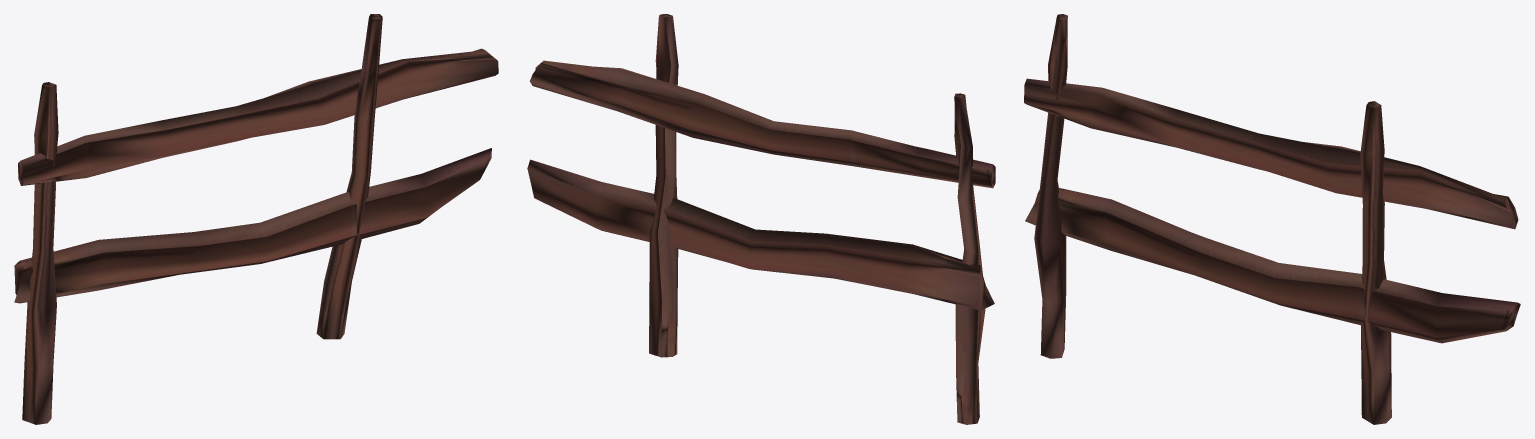
File: Fence_02.fbx
The picture shows the model from 3 angles, left to right: view 1: azimuth 30°, elevation 25°; view 2: azimuth 150°, elevation 25°; view 3: azimuth 330°, elevation 25°; orthographic projection. The views are drawn at different scales.
Parts seen in each view (by area): view 1: Fence.001; view 2: Fence.001; view 3: Fence.001.
Part boxes in pixels (x1,y1,x2,y2): Fence.001: (14,14,498,424); Fence.001: (527,14,995,424); Fence.001: (1024,14,1520,424).
Bounding box in the file's own units: 144180 × 95396 × 17374.
